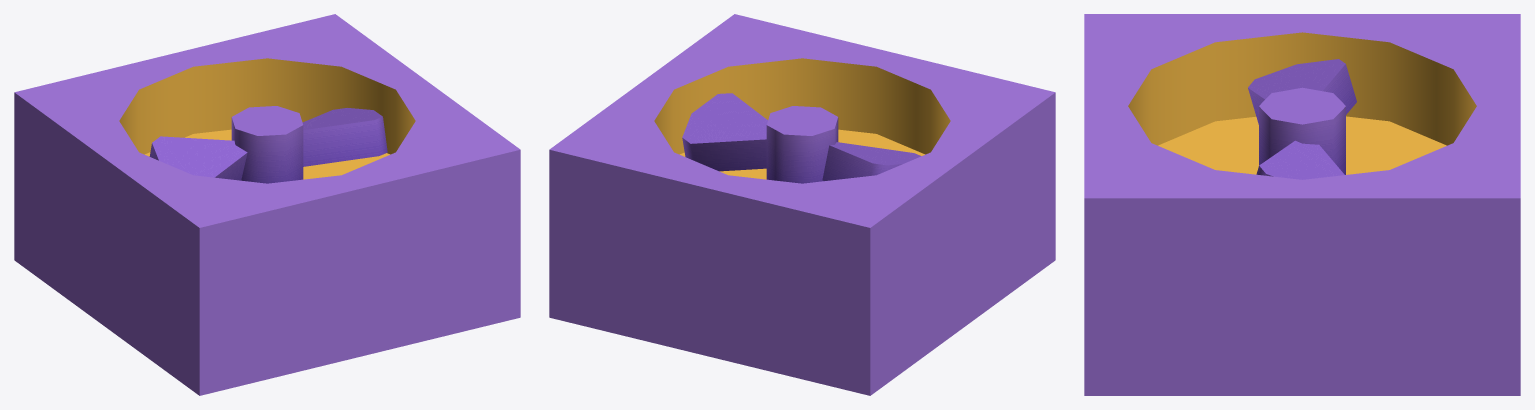
The model's file is fan-two.glb.
The picture shows the model from 3 angles, left to right: view 1: azimuth 30°, elevation 25°; view 2: azimuth 150°, elevation 25°; view 3: azimuth 270°, elevation 25°; orthographic projection. The views are drawn at different scales.
Parts seen in each view (by area): view 1: fan-two, fan; view 2: fan-two, fan; view 3: fan-two, fan.
Part boxes in pixels (x1=…): fan-two: x1=14, y1=14, x2=520, y2=395; fan: x1=149, y1=106, x2=387, y2=183; fan-two: x1=549, y1=14, x2=1055, y2=395; fan: x1=682, y1=93, x2=921, y2=183; fan-two: x1=1084, y1=14, x2=1520, y2=395; fan: x1=1248, y1=59, x2=1356, y2=179.
Bounding box in the file's own units: 1 × 0.5 × 1.
Materials: 1 (1 with a texture image).
